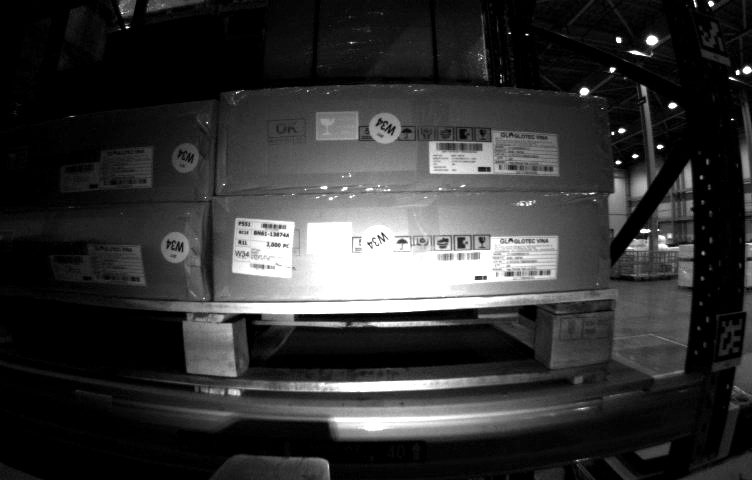True Barcode: (233, 217, 291, 280)
